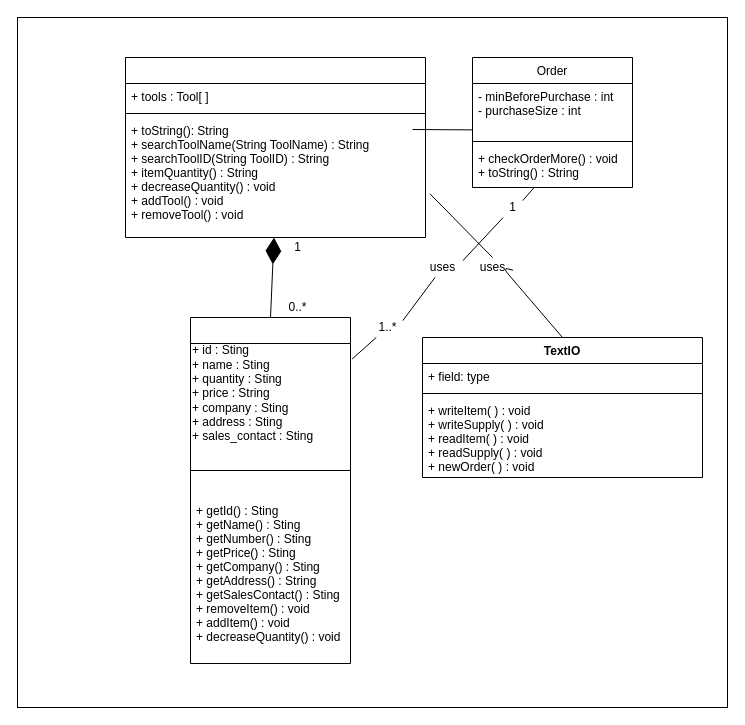
Some shapes in this 745 by 725 pixel diagram are drawn without their labels. The shapes that lost their labels are listed below. From the top down, each one's box as (x1, y1, x2, y2) in pixels, then its label:
(124, 56, 426, 238): Inventory
(190, 316, 350, 664): Tool
